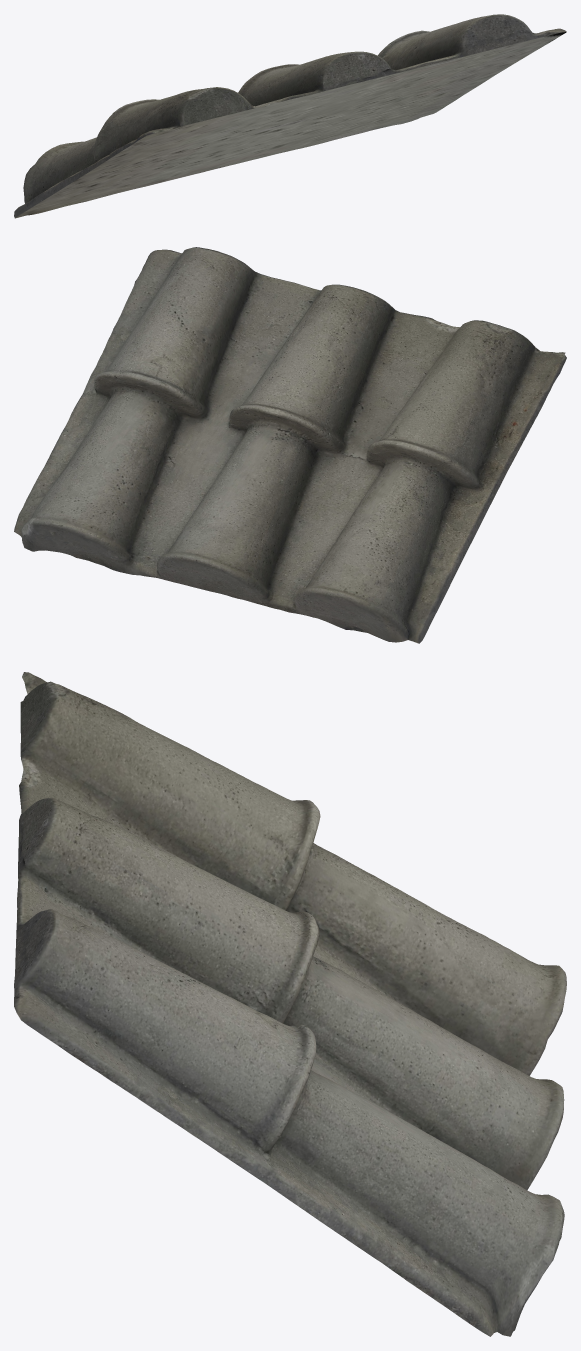
Rendered from Retopo_3DModel_mesh.032.glb.
3 renders of one model, top to bottom at view 1: azimuth 30°, elevation 25°; view 2: azimuth 150°, elevation 25°; view 3: azimuth 270°, elevation 25°, orthographic. The views are drawn at different scales.
Parts seen in each view (by area): view 1: Retopo_3DModel_mesh.032; view 2: Retopo_3DModel_mesh.032; view 3: Retopo_3DModel_mesh.032.
Boxes of the visible parts, left/top/right/bottom form: Retopo_3DModel_mesh.032: left=14, top=14, right=566, bottom=218; Retopo_3DModel_mesh.032: left=14, top=247, right=566, bottom=643; Retopo_3DModel_mesh.032: left=14, top=672, right=566, bottom=1336.
Size of the model in its own units: 4.91 by 2.42 by 3.24.
1 material, 1 textured.
